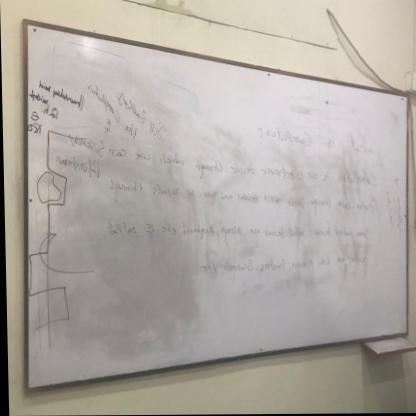Handwritten text: (61, 133, 379, 196), (102, 174, 384, 228), (101, 219, 369, 247), (197, 246, 374, 285), (260, 122, 380, 162), (30, 80, 84, 108)
Whiteboard: (19, 16, 413, 401)
